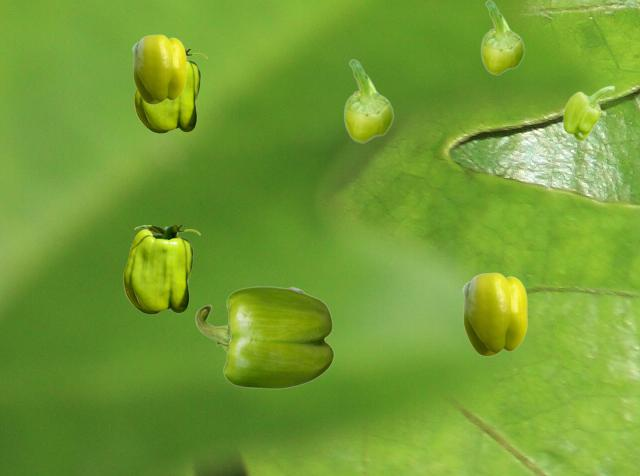bell_pepper: (195, 286, 333, 388), (123, 225, 199, 313), (134, 49, 206, 132), (462, 272, 526, 355), (343, 59, 393, 142), (132, 34, 185, 103), (480, 0, 524, 74), (562, 85, 614, 140)
